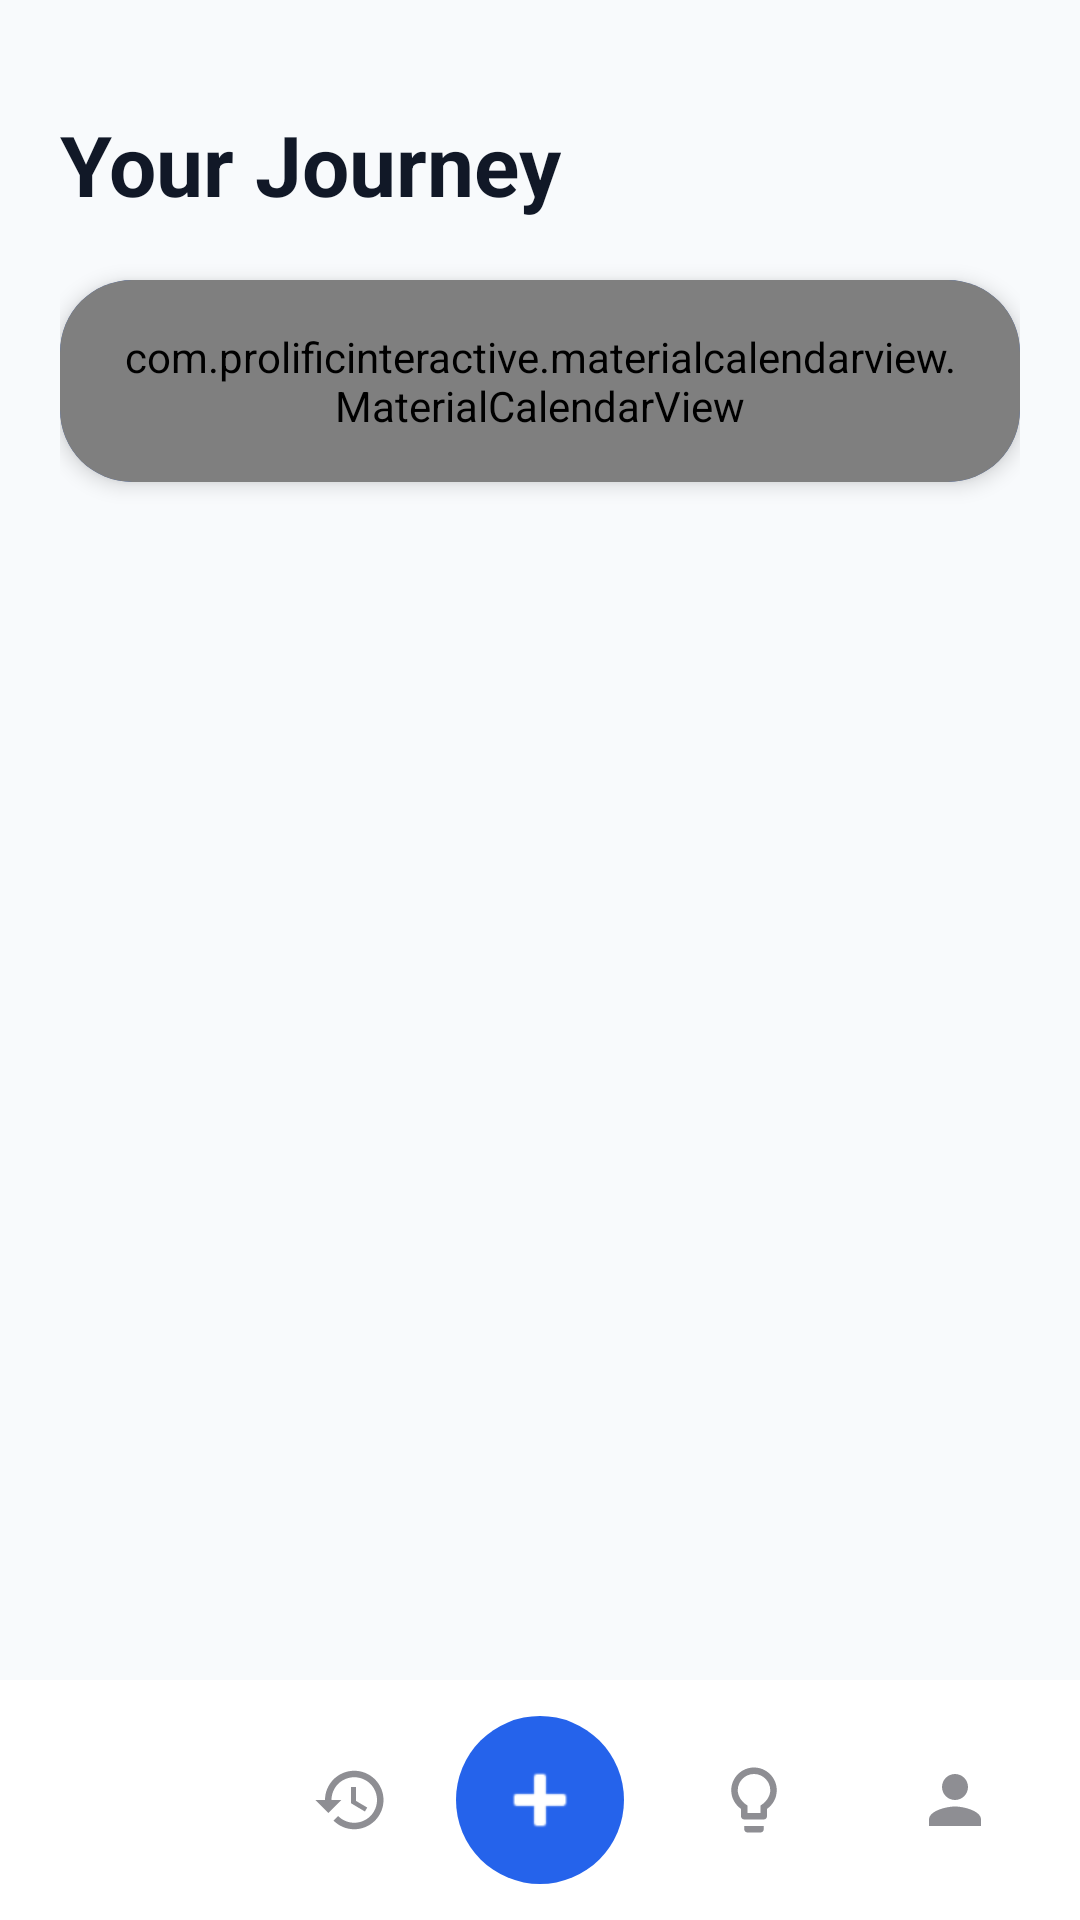

Icons on this 1080*1920 Android screen, each with the point to tap as (x,y):
add: (540,1818)
